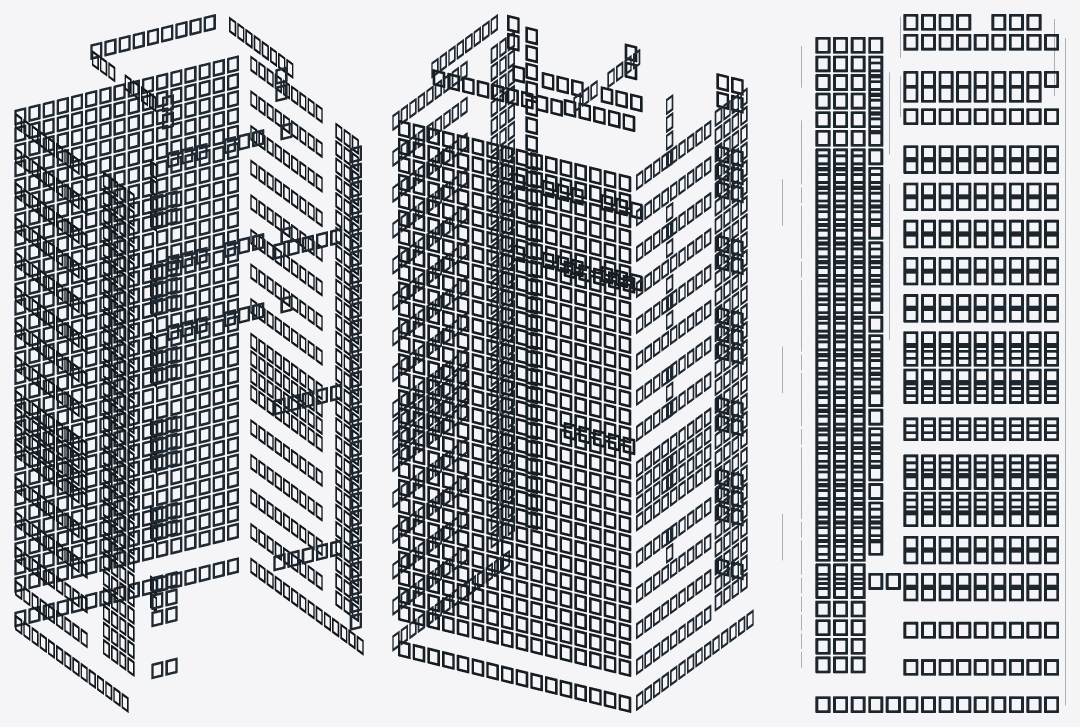
The model's file is building-141.glb.
3 views of the same model, side by side, from view 1: azimuth 30°, elevation 25°; view 2: azimuth 150°, elevation 25°; view 3: azimuth 270°, elevation 25° (orthographic). The views are drawn at different scales.
Visible parts, largest first — view 1: building-141-cassette-export; view 2: building-141-cassette-export; view 3: building-141-cassette-export.
Part boxes in pixels (x1,y1,x2,y2): building-141-cassette-export: [14, 14, 363, 712]; building-141-cassette-export: [392, 14, 753, 712]; building-141-cassette-export: [782, 14, 1065, 712].
Bounding box in the file's own units: 59.79 × 138 × 57.95.
